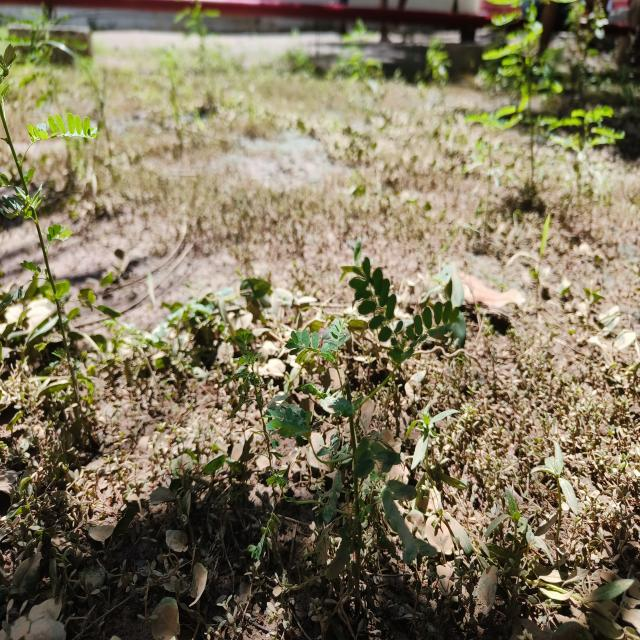weed: (258, 263, 467, 556), (0, 6, 110, 448), (238, 328, 284, 531)
